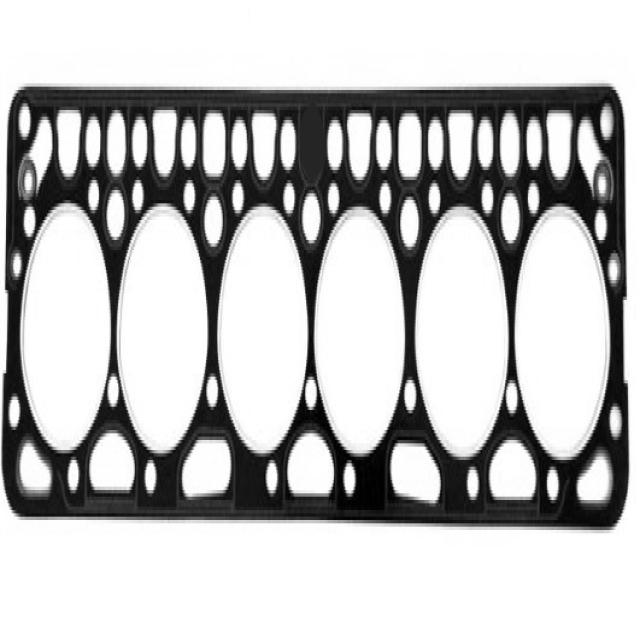missing hole: (294, 98, 330, 207)
